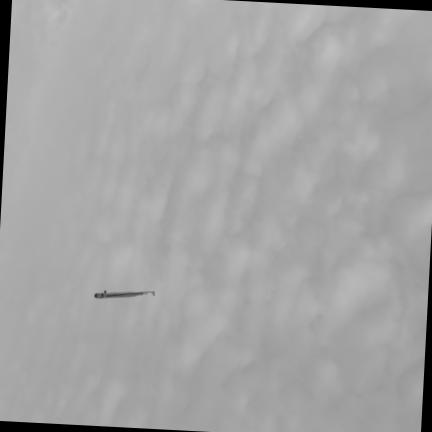Shahed: (93, 290, 155, 299)
